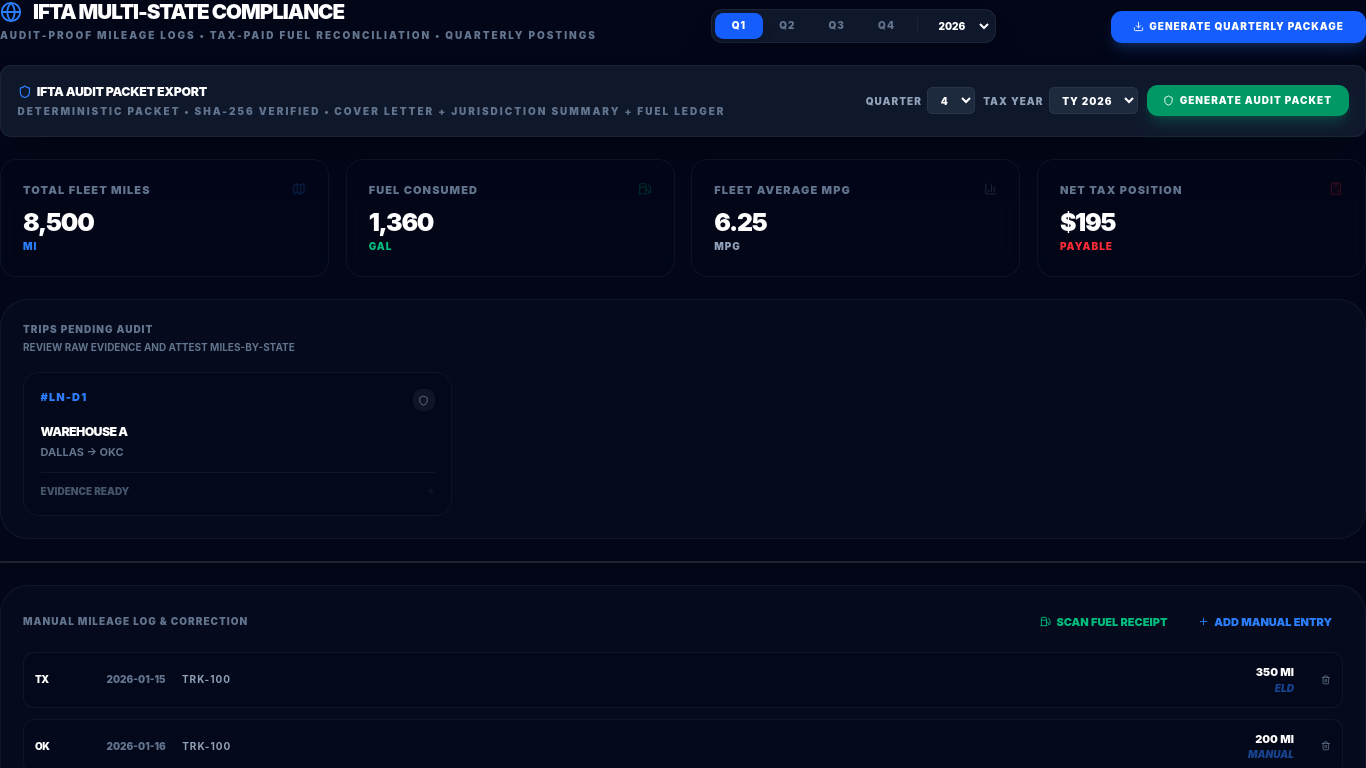
Test case: IFTAManager component › can close mileage modal with Cancel
Click the button "Add Manual Entry": point(1265, 622) [1187,608,1343,636]
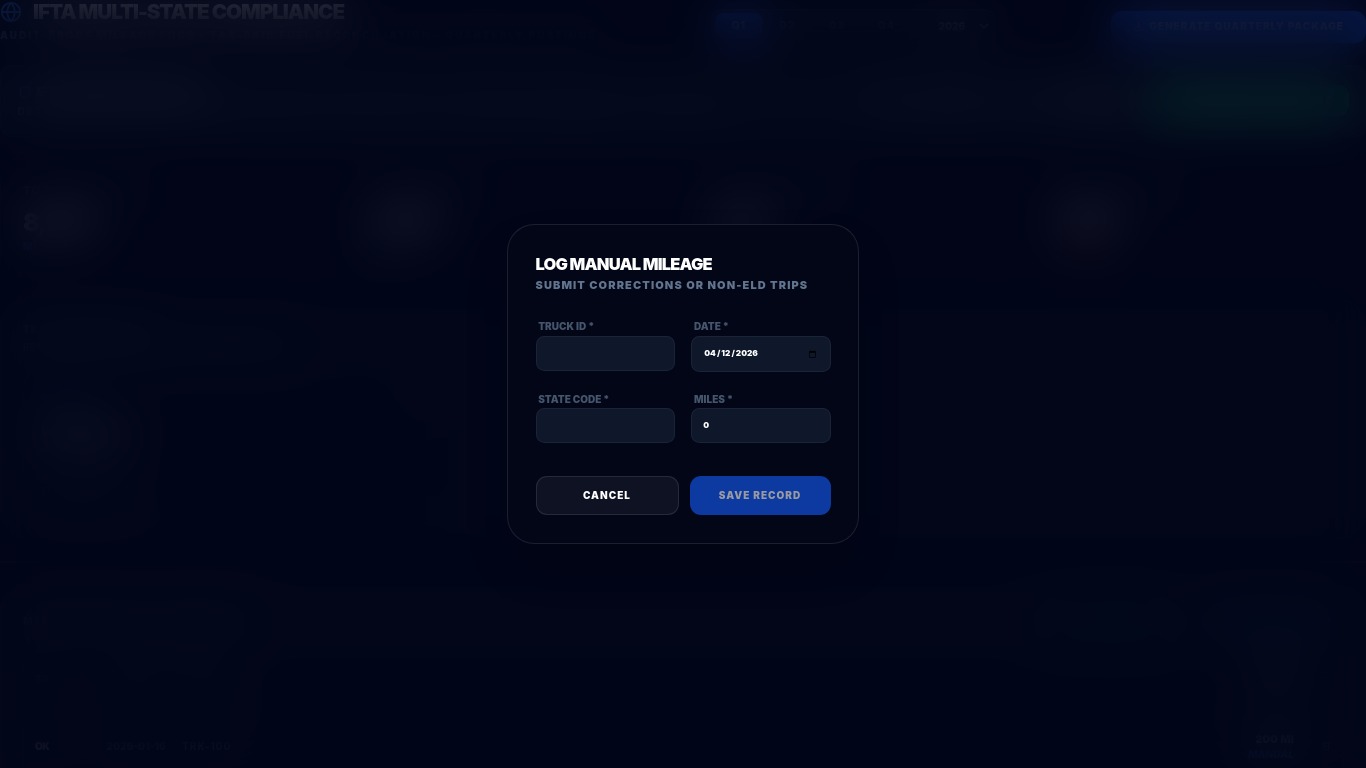
Check: the heading "Log Manual Mileage" is shown, box [536,254,712,274]
Click the button "Cancel": point(607, 496) [536,476,678,515]
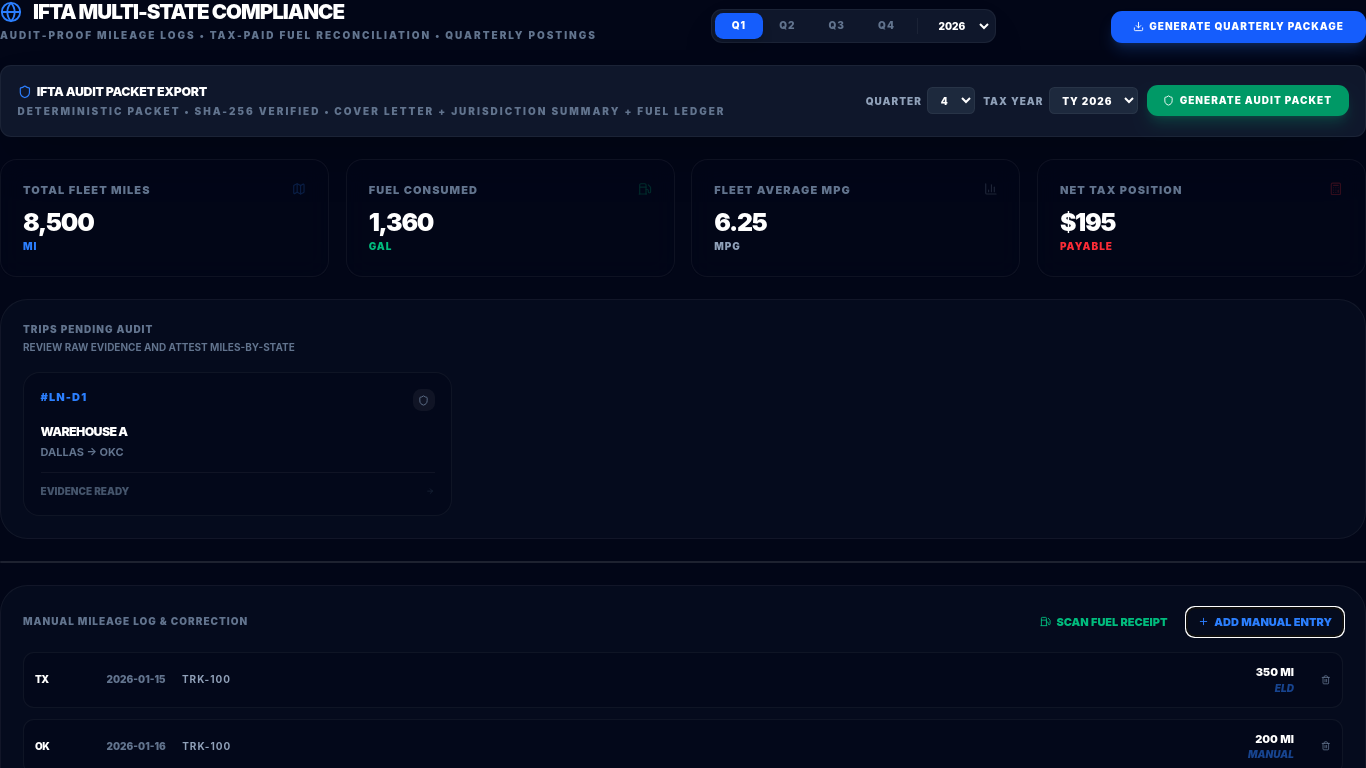
Check: the heading "Log Manual Mileage" is gone
